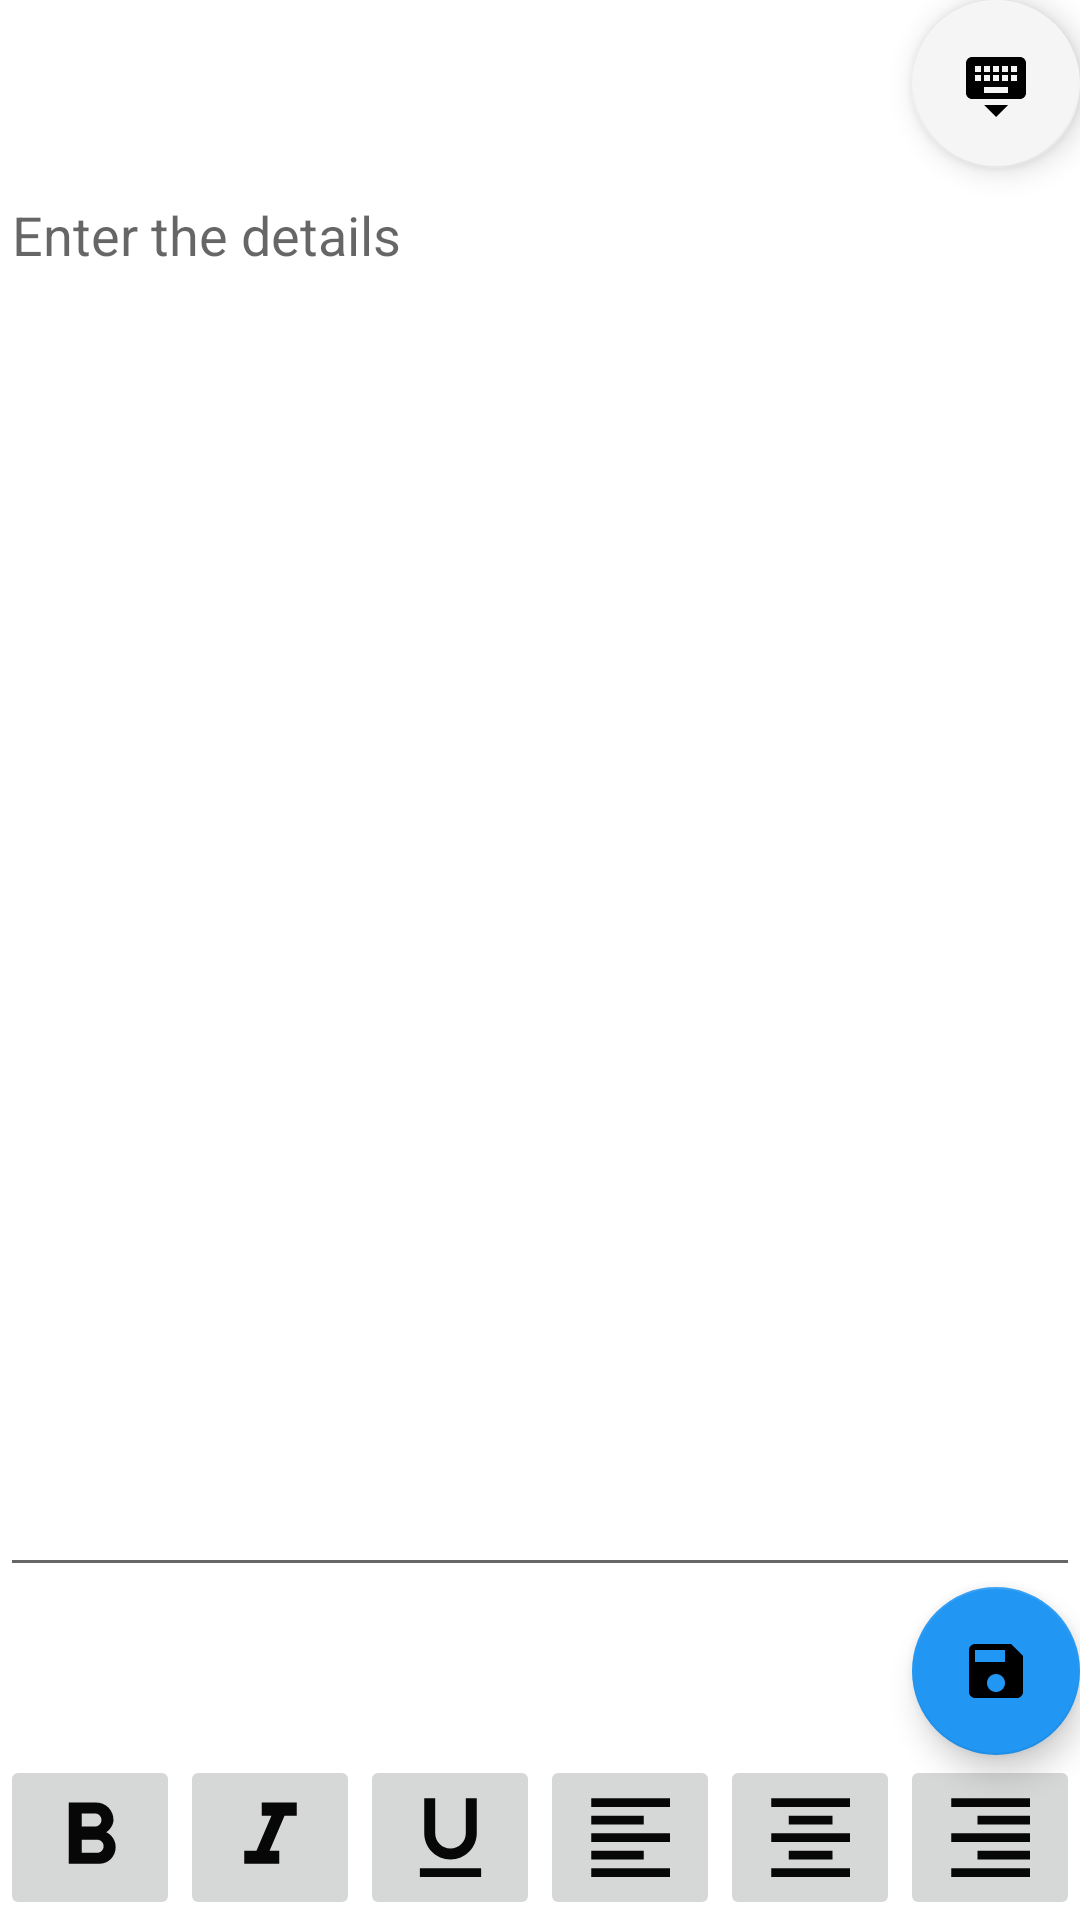

Where icons sit on this 1080×1920 app screen, as box(x1, y1, x2, y2):
format: box(12, 1773, 168, 1902)
format align center: box(732, 1773, 888, 1902)
format align left: box(552, 1773, 708, 1902)
format align right: box(912, 1773, 1068, 1902)
format italic: box(192, 1773, 348, 1902)
format underlined: box(372, 1773, 528, 1902)
keyboard hide: box(966, 7, 1080, 168)
save: box(912, 1587, 1080, 1755)
